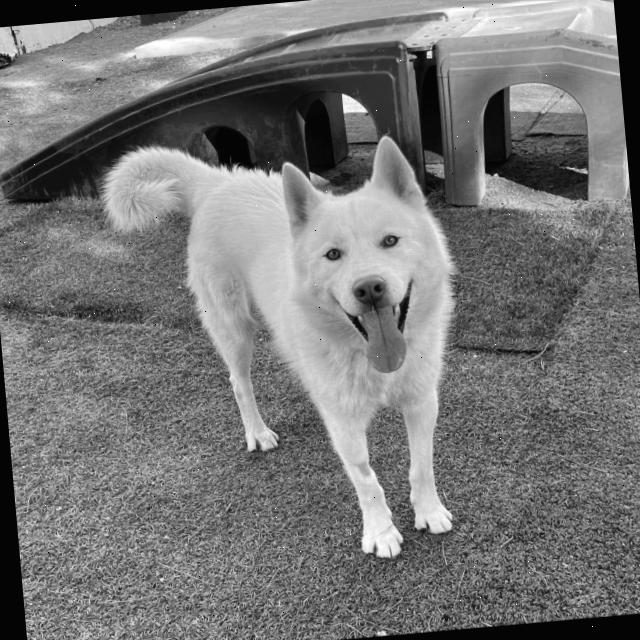siberian_husky_dog: (268, 123, 462, 388)
